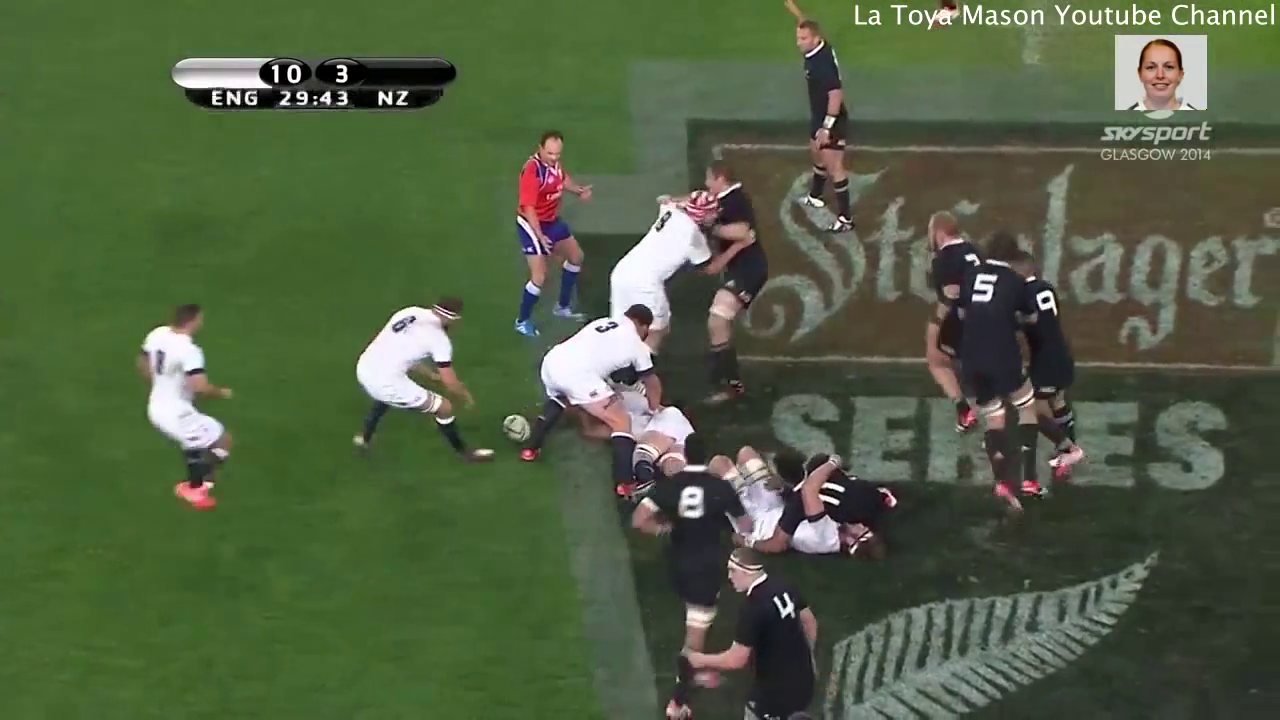ball: (485, 396, 548, 452)
player: (629, 426, 745, 720), (586, 179, 766, 368), (948, 228, 1060, 524), (517, 289, 672, 500), (339, 286, 502, 481), (124, 292, 251, 519), (675, 548, 837, 720), (684, 153, 789, 416), (993, 237, 1101, 472), (768, 1, 871, 241), (700, 441, 884, 568), (498, 123, 600, 349), (907, 201, 993, 448), (754, 444, 900, 559)
ruck: (632, 382, 913, 560)
